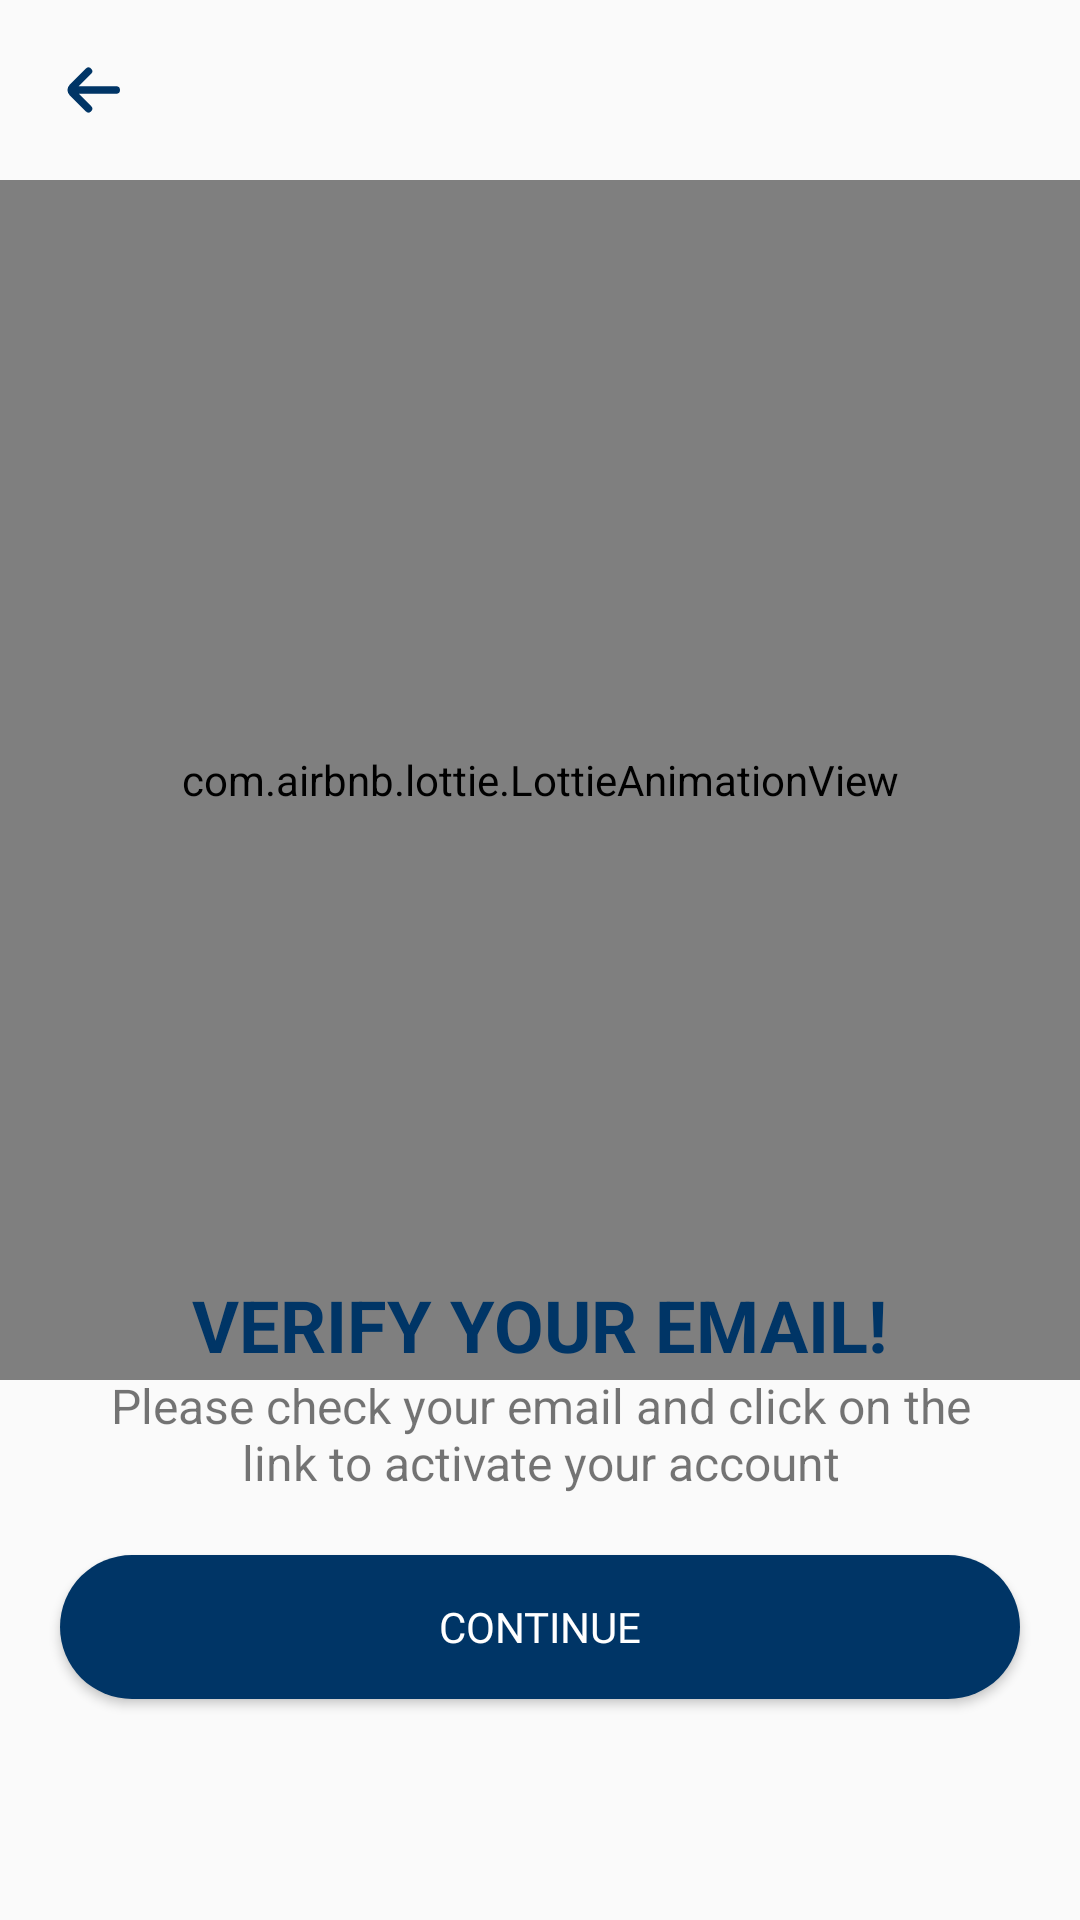

Icons on this 1080 × 1920 Android screen, each with the point to tap as point (x, y):
arrow left: point (93, 90)
